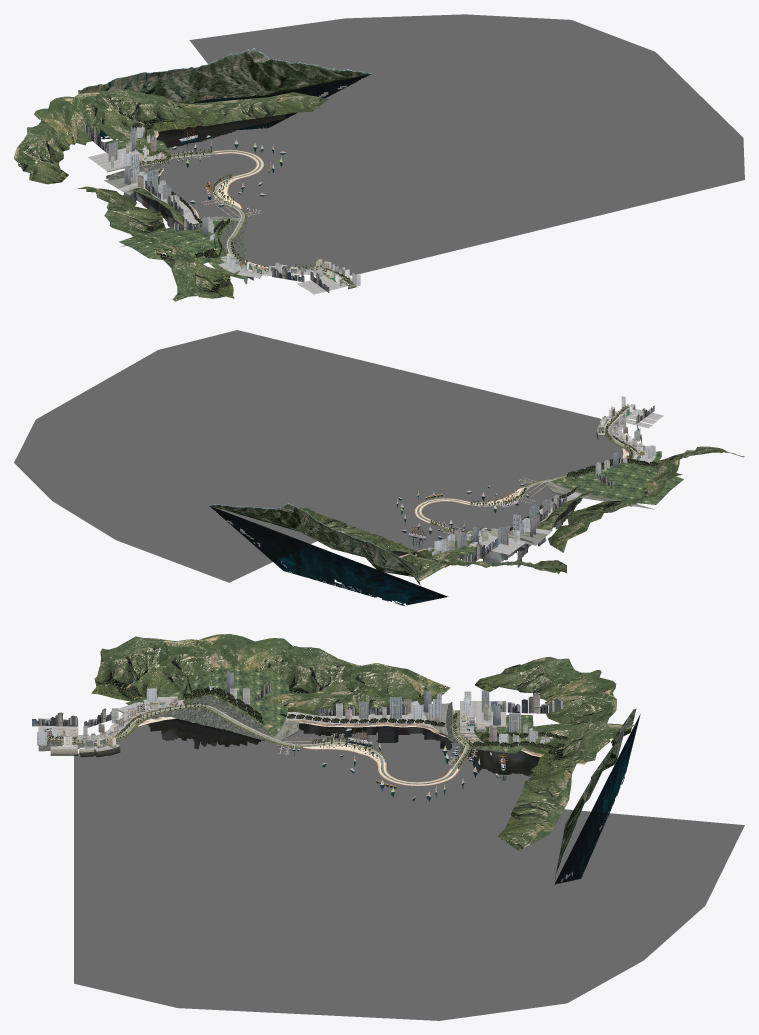
The model's file is stage-beac.glb.
3 views of the same model, one above another, from view 1: azimuth 30°, elevation 25°; view 2: azimuth 150°, elevation 25°; view 3: azimuth 270°, elevation 25° (orthographic). The views are drawn at different scales.
Parts seen in each view (by area): view 1: part 5, part 1, part 3, env part 1, env part 2, part 4, env part 0, part 0, part 2; view 2: part 5, part 1, part 3, part 4, env part 1, env part 2, part 2, env part 0, part 0; view 3: part 5, part 1, part 3, env part 1, part 2, env part 2, part 4, env part 0, part 0.
Boxes of the visible parts, left/top/right/bottom form: part 5: left=137, top=14, right=744, bottom=275; part 1: left=14, top=48, right=371, bottom=301; part 3: left=85, top=122, right=360, bottom=292; env part 1: left=106, top=138, right=347, bottom=285; env part 2: left=114, top=148, right=352, bottom=283; part 4: left=171, top=128, right=285, bottom=217; env part 0: left=130, top=149, right=345, bottom=280; part 0: left=123, top=149, right=349, bottom=285; part 2: left=126, top=126, right=351, bottom=284; part 5: left=14, top=330, right=623, bottom=582; part 1: left=209, top=408, right=744, bottom=605; part 3: left=428, top=396, right=655, bottom=566; part 4: left=396, top=477, right=546, bottom=543; env part 1: left=430, top=414, right=682, bottom=548; env part 2: left=431, top=404, right=644, bottom=541; part 2: left=432, top=409, right=658, bottom=532; env part 0: left=414, top=408, right=635, bottom=532; part 0: left=414, top=406, right=632, bottom=537; part 5: left=74, top=718, right=744, bottom=1020; part 1: left=38, top=634, right=640, bottom=883; part 3: left=32, top=670, right=563, bottom=770; env part 1: left=47, top=669, right=528, bottom=768; part 2: left=47, top=676, right=566, bottom=767; env part 2: left=44, top=691, right=484, bottom=767; part 4: left=278, top=728, right=507, bottom=801; env part 0: left=51, top=705, right=469, bottom=786; part 0: left=47, top=704, right=467, bottom=786.
Bounding box in the file's own units: 5986 × 730 × 5103.
205 materials, 202 textured.
